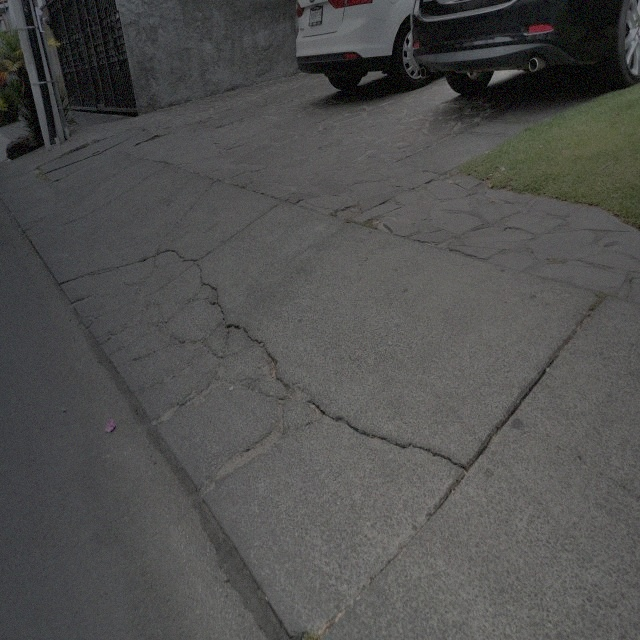pothole: (210, 408, 283, 489)
